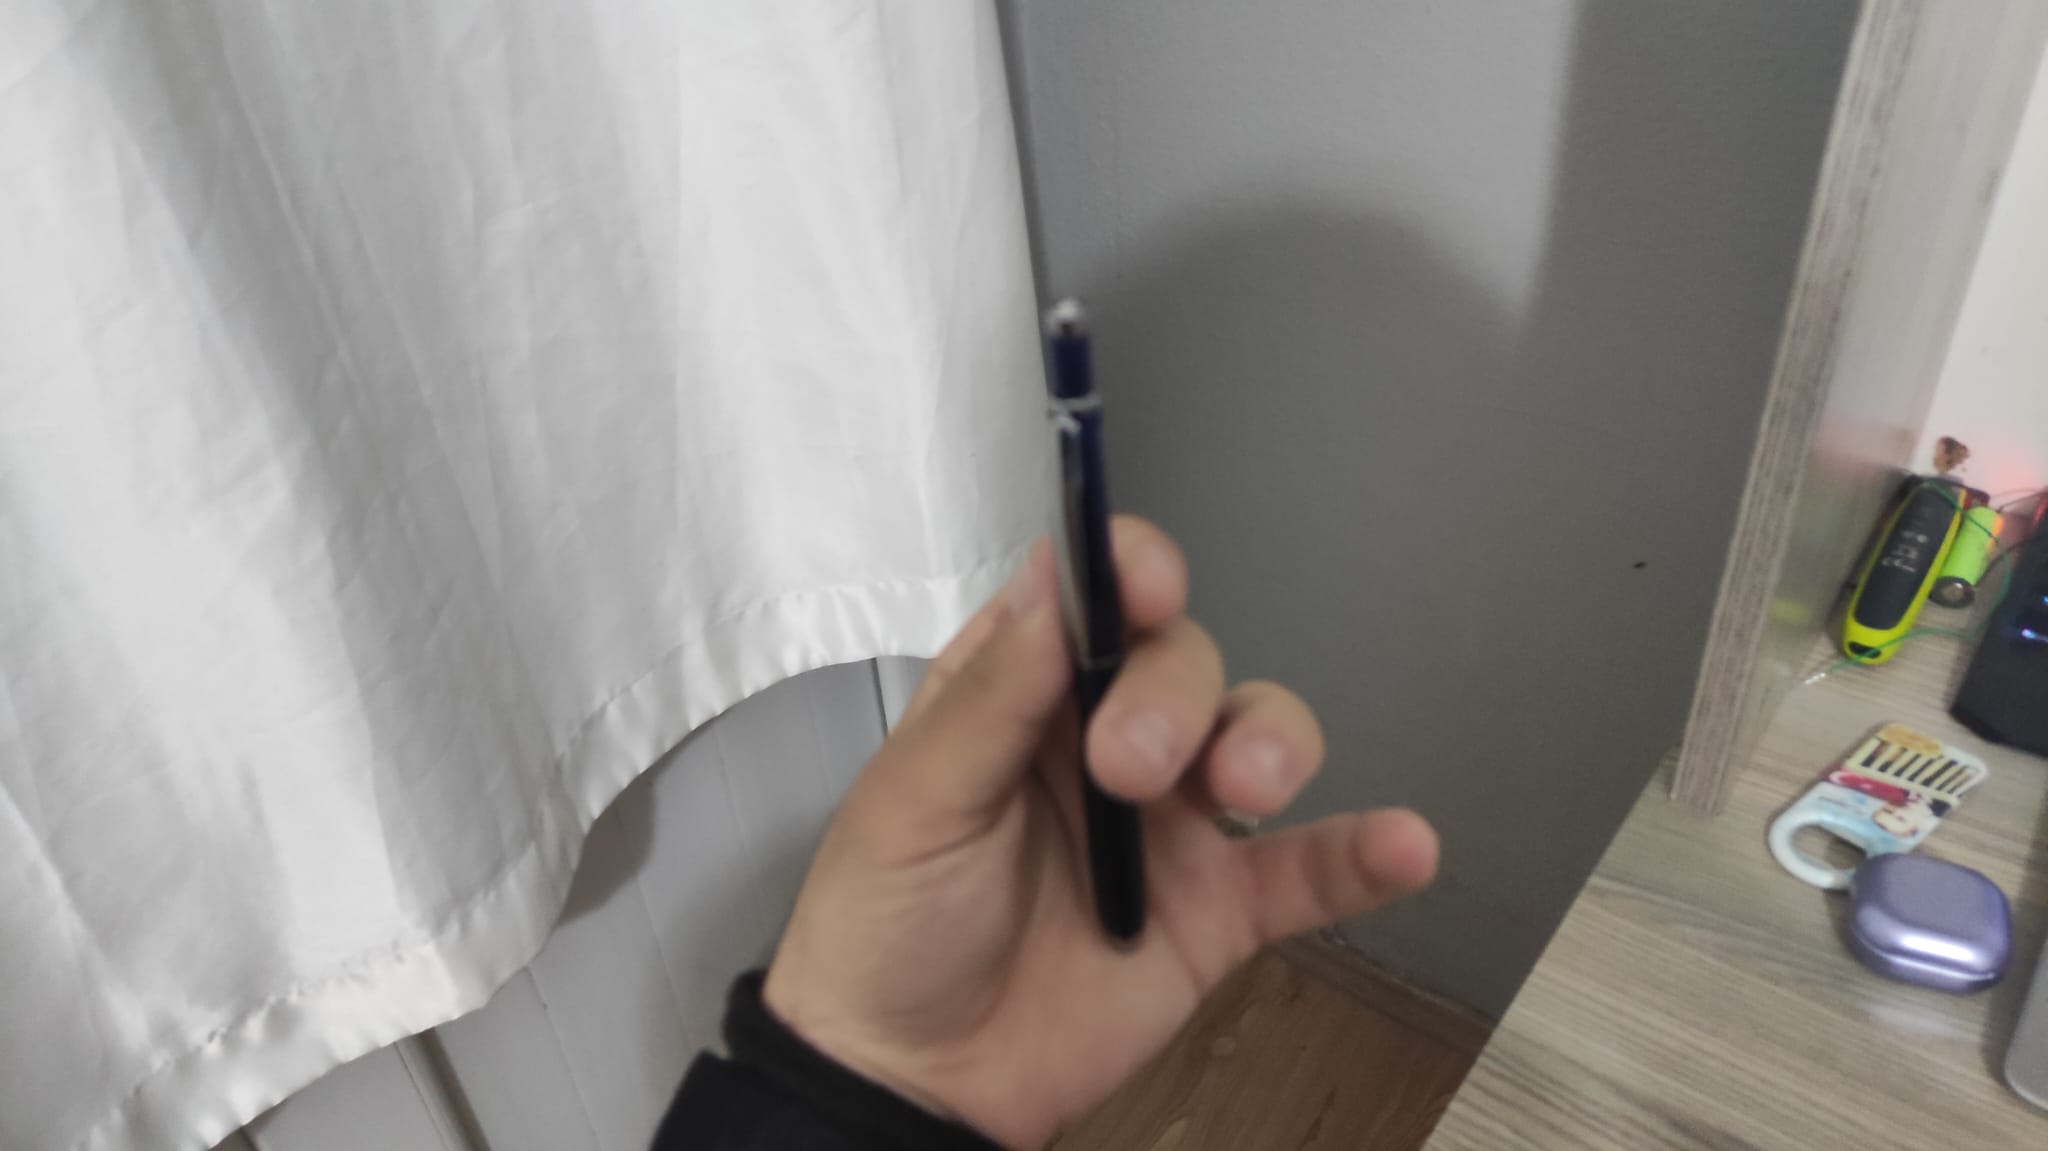kalem: (1042, 298, 1155, 948)
